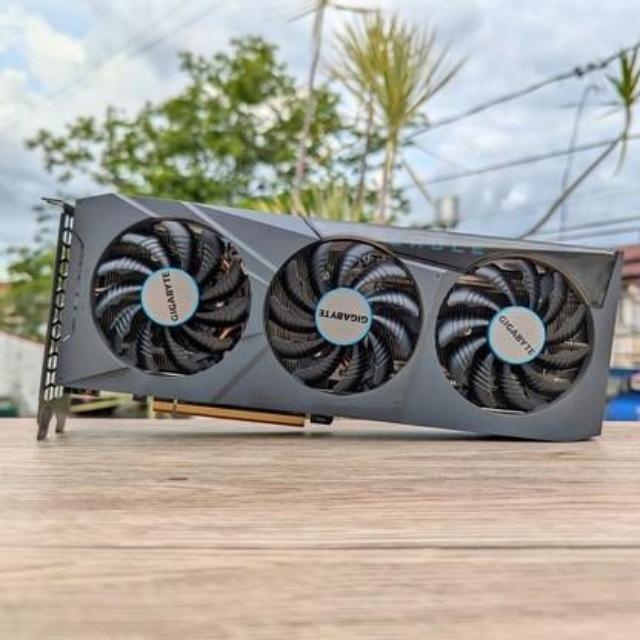GPU: (41, 190, 632, 456)
